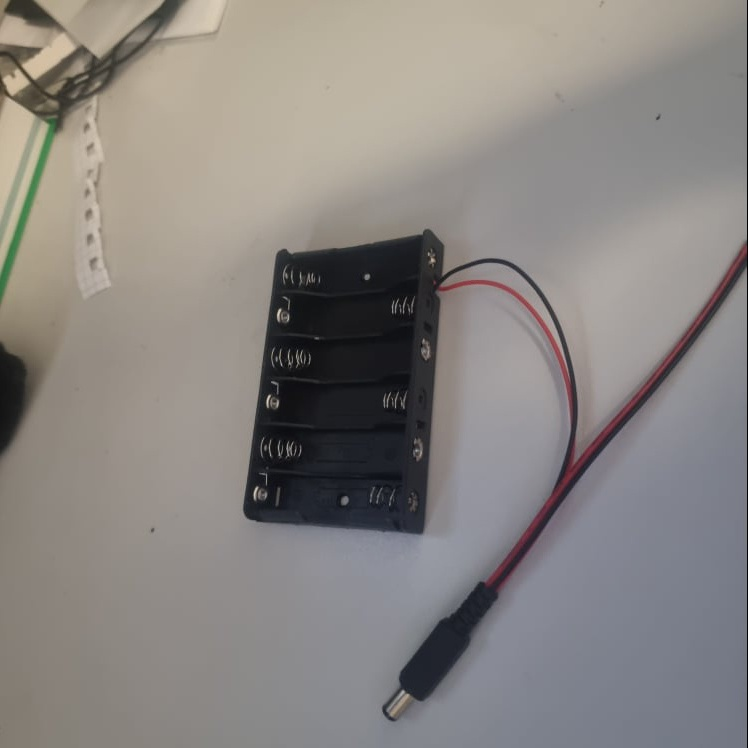BATTERY BOX: (243, 227, 448, 538)
